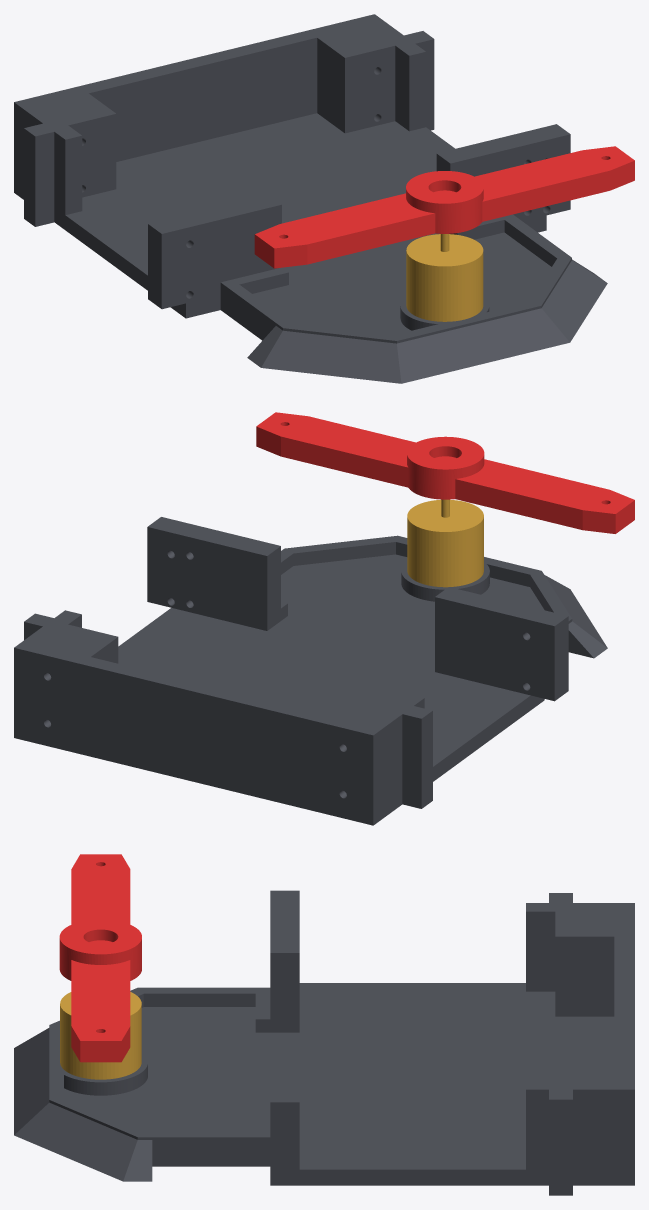
3 views of the same model, one above another, from view 1: azimuth 30°, elevation 25°; view 2: azimuth 150°, elevation 25°; view 3: azimuth 270°, elevation 25° (orthographic). The views are drawn at different scales.
Parts seen in each view (by area): view 1: FC-02_0, FC-02_1, FC-02_2; view 2: FC-02_0, FC-02_1, FC-02_2; view 3: FC-02_0, FC-02_1, FC-02_2.
Boxes of the visible parts, x1=… form: FC-02_0: x1=14, y1=14, x2=607, y2=383; FC-02_1: x1=254, y1=146, x2=634, y2=268; FC-02_2: x1=406, y1=234, x2=483, y2=321; FC-02_0: x1=14, y1=517, x2=607, y2=825; FC-02_1: x1=256, y1=412, x2=634, y2=533; FC-02_2: x1=407, y1=499, x2=483, y2=587; FC-02_0: x1=14, y1=890, x2=634, y2=1195; FC-02_1: x1=59, y1=854, x2=141, y2=1062; FC-02_2: x1=60, y1=992, x2=141, y2=1079.
Size of the model in its own units: 170 by 58 by 211.
